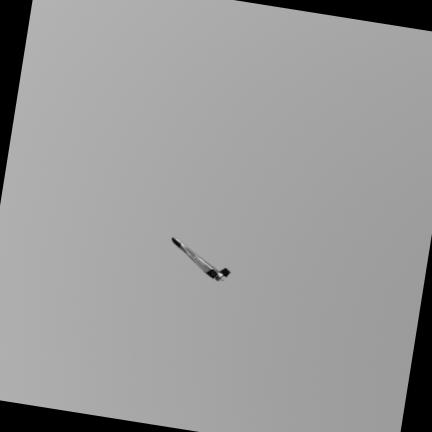Shahed: (171, 238, 229, 280)
